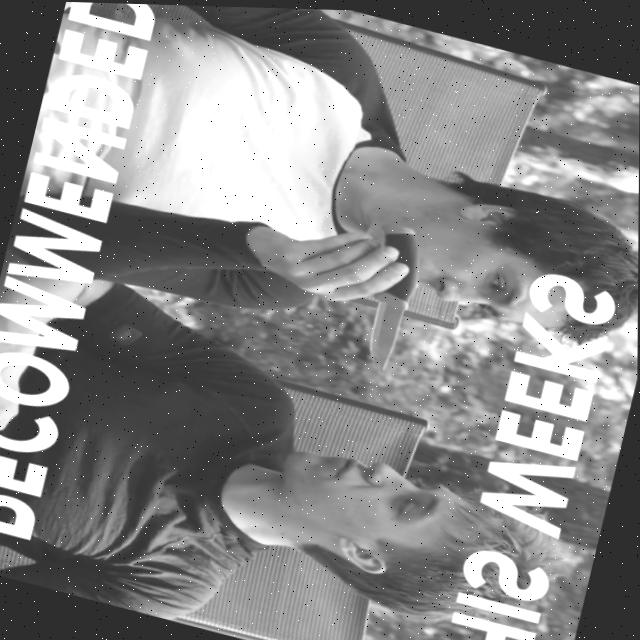knife: (348, 204, 439, 372)
